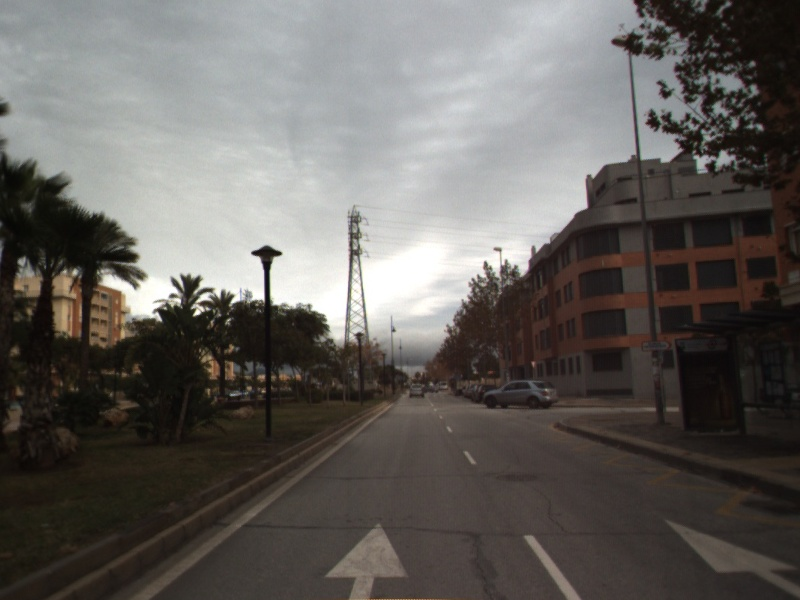STRAIGHT: (659, 516, 800, 598), (320, 518, 412, 600)
